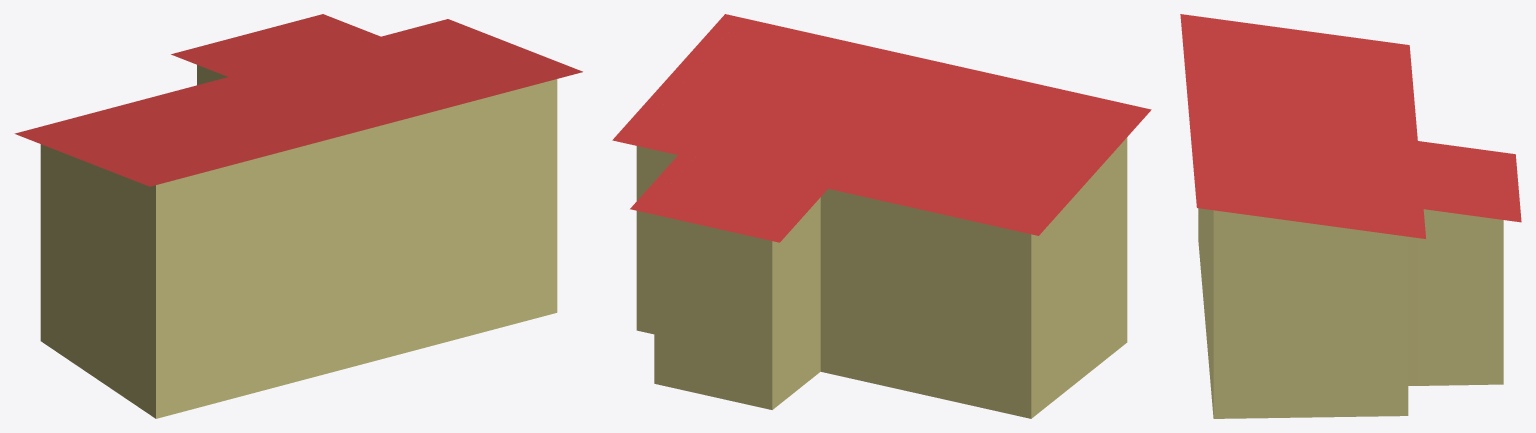
3 views of the same model, side by side, from view 1: azimuth 30°, elevation 25°; view 2: azimuth 150°, elevation 25°; view 3: azimuth 270°, elevation 25° (orthographic). The views are drawn at different scales.
Size of the model in its own units: 13.54 by 9.89 by 6.99.
